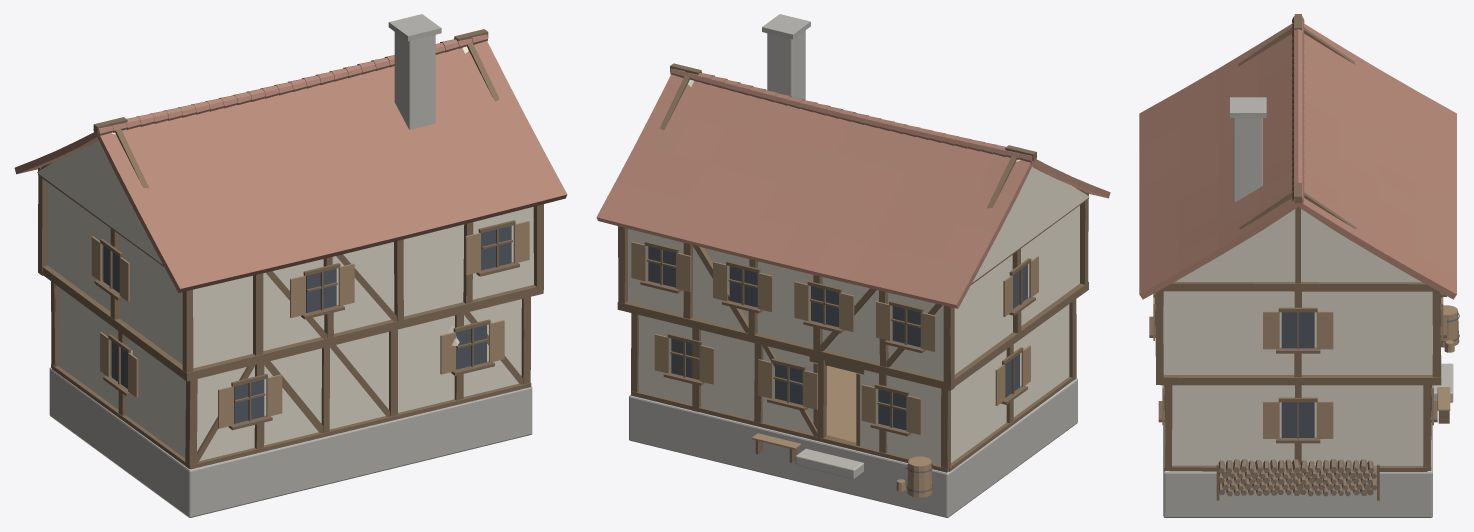
File: house_b.glb
3 views of the same model, side by side, from view 1: azimuth 30°, elevation 25°; view 2: azimuth 150°, elevation 25°; view 3: azimuth 270°, elevation 25° (orthographic). The views are drawn at different scales.
Parts seen in each view (by area): view 1: house_b; view 2: house_b; view 3: house_b.
Part boxes in pixels (x1=…): house_b: x1=14, y1=14, x2=567, y2=517; house_b: x1=596, y1=14, x2=1110, y2=517; house_b: x1=1139, y1=14, x2=1459, y2=517.
Size of the model in its own units: 11.7 by 11.32 by 8.67.
